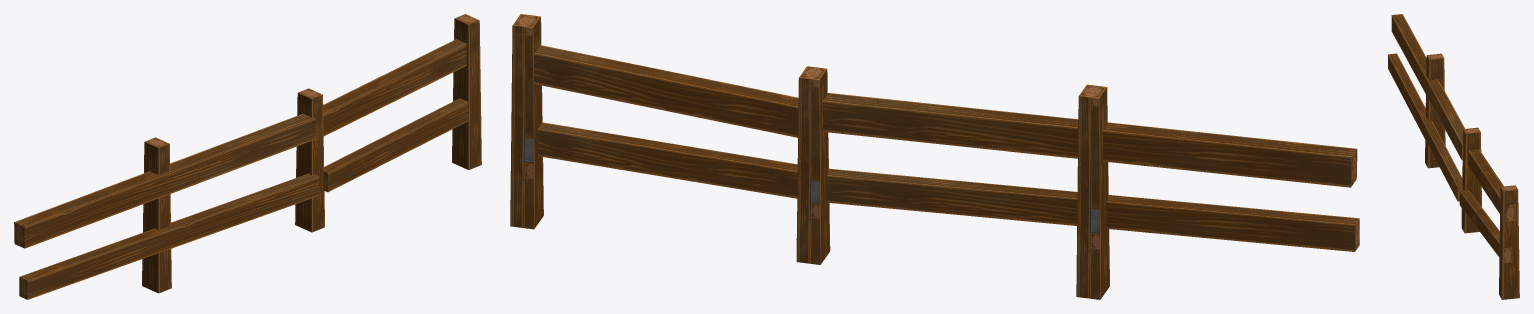
3 views of the same model, side by side, from view 1: azimuth 30°, elevation 25°; view 2: azimuth 150°, elevation 25°; view 3: azimuth 270°, elevation 25° (orthographic). The views are drawn at different scales.
Visible parts, largest first — view 1: Cube.1620; view 2: Cube.1620; view 3: Cube.1620.
Part boxes in pixels (x1,y1,x2,y2): Cube.1620: (14, 14, 481, 299); Cube.1620: (510, 14, 1359, 299); Cube.1620: (1388, 14, 1519, 299).
Size of the model in its own units: 510 by 132 by 146.
Materials: 1 (1 with a texture image).
